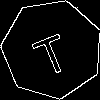T: (27, 24, 73, 78)
